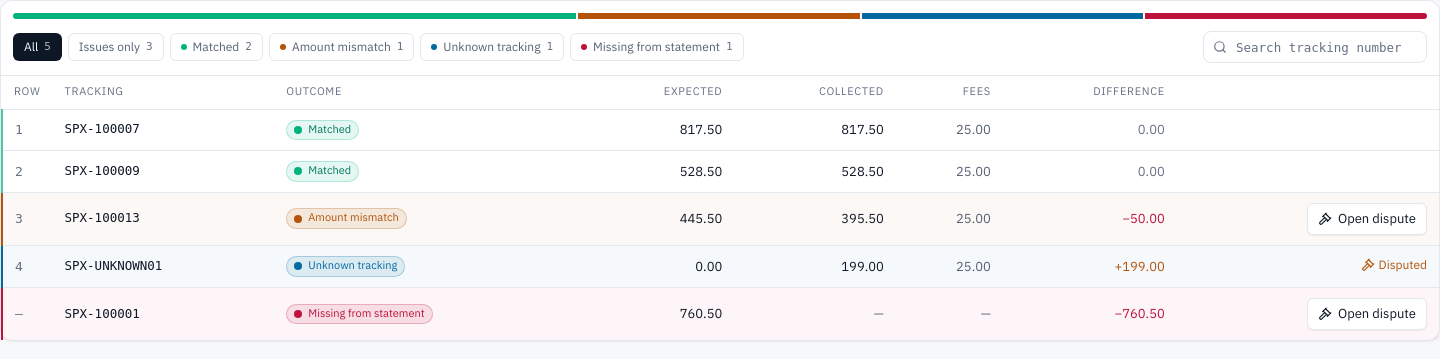
Test: ReconciliationTable › filters by outcome chip and by tracking search
Expected: the text with test id "count-MATCHED" reads "2", left=245, top=40, right=252, bottom=53
Expected: the text with test id "count-ISSUES" reads "3", left=146, top=40, right=153, bottom=53
Click the button with test id "filter-ISSUES" at (116, 47), box left=68, top=33, right=164, bottom=61
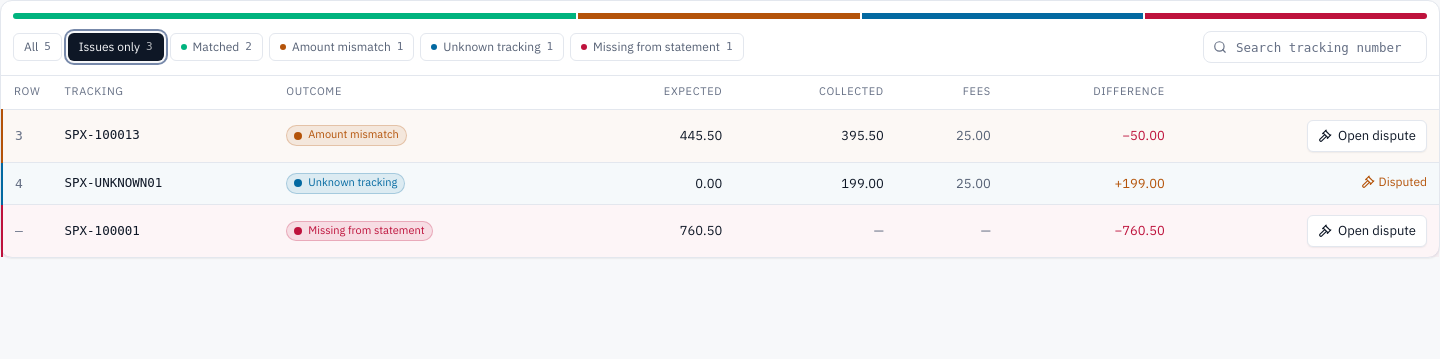
Result: the number of rows with test id "recon-row" is 3 at left=2, top=109, right=1439, bottom=162; left=2, top=162, right=1439, bottom=204; left=2, top=204, right=1439, bottom=257
Click the button with test id "filter-MISSING_FROM_STATEMENT" at (657, 47), box left=570, top=33, right=744, bottom=61
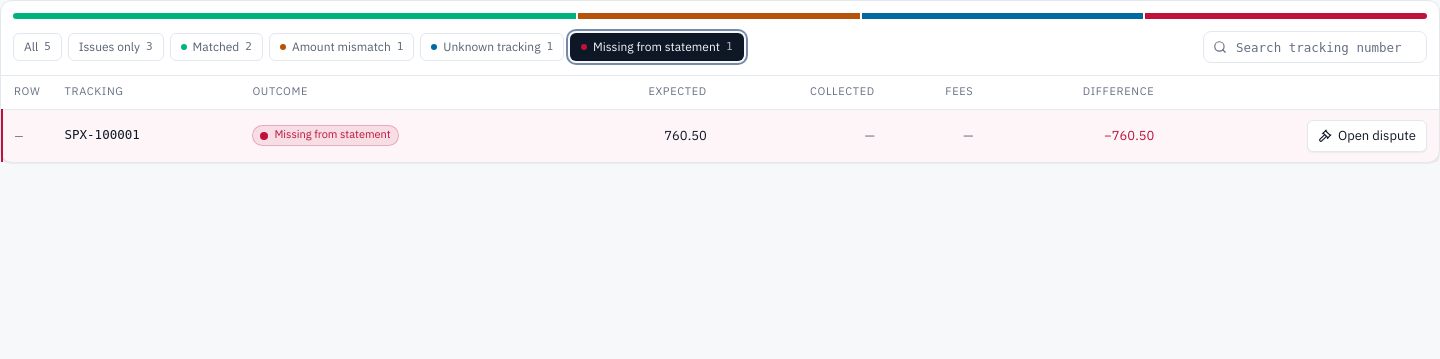
Click the button with test id "filter-ALL" at (37, 47), box left=13, top=33, right=62, bottom=61
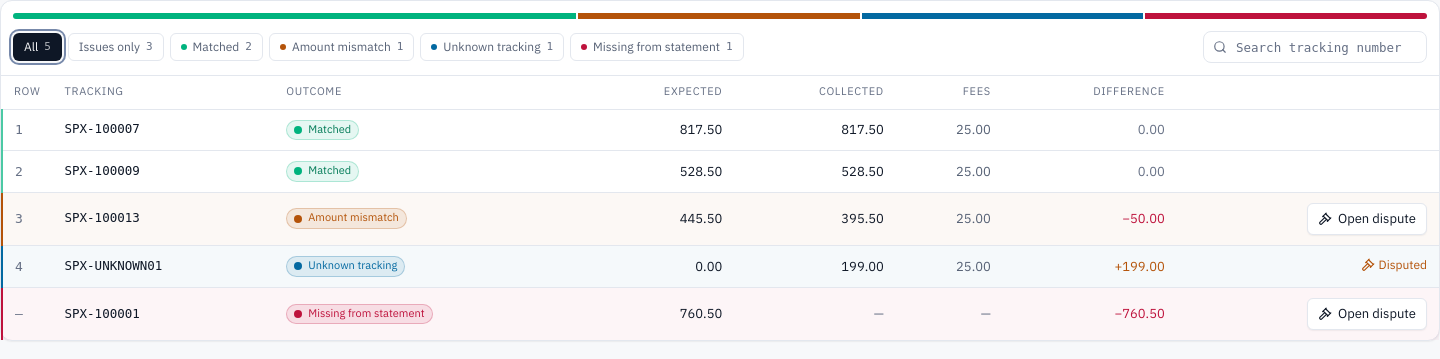
Type "zzz" into the field labelled "Search tracking number" at (1315, 47), box left=1203, top=31, right=1427, bottom=63
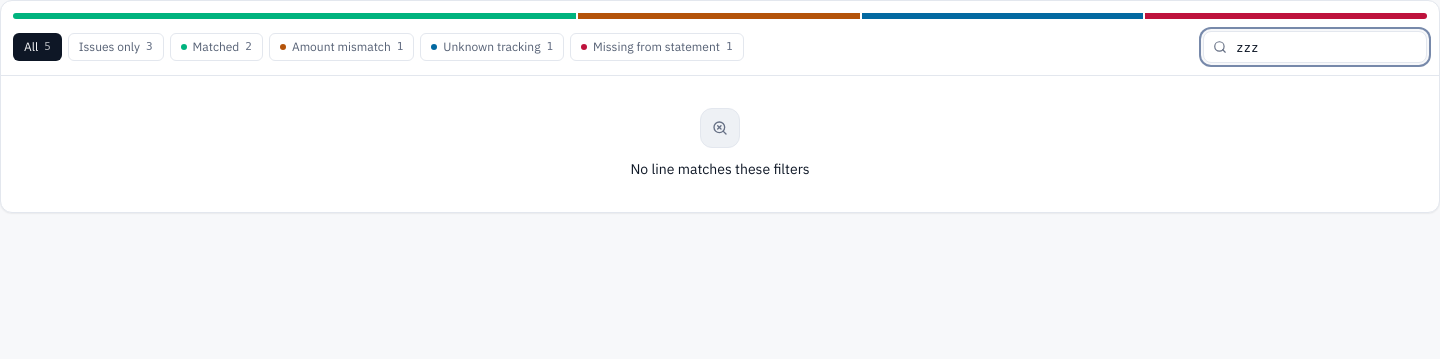
Result: the text "No line matches these filters" is shown at left=630, top=160, right=810, bottom=180
